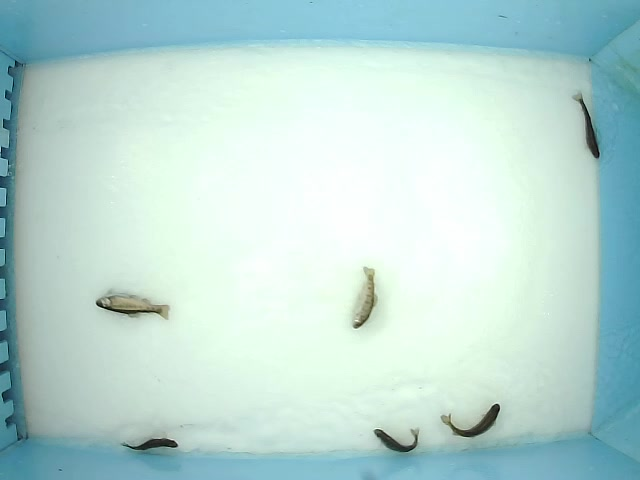fish: (95, 288, 170, 322), (440, 401, 501, 439), (570, 90, 601, 160), (349, 265, 380, 330), (118, 433, 186, 453), (373, 427, 420, 454)
